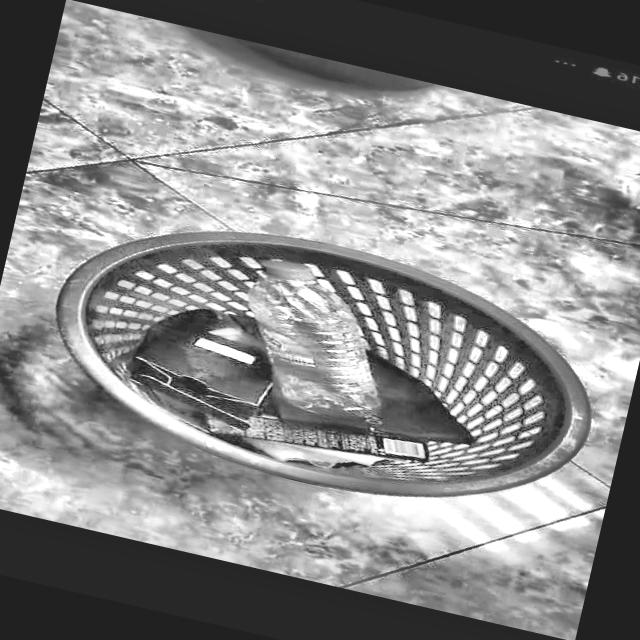Bottle-Disposed: (40, 190, 618, 542)
